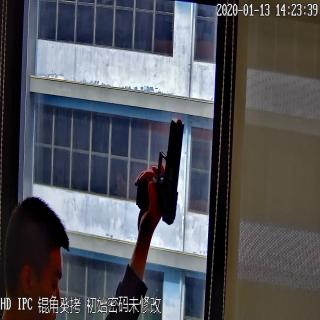gun: (134, 116, 184, 229)
